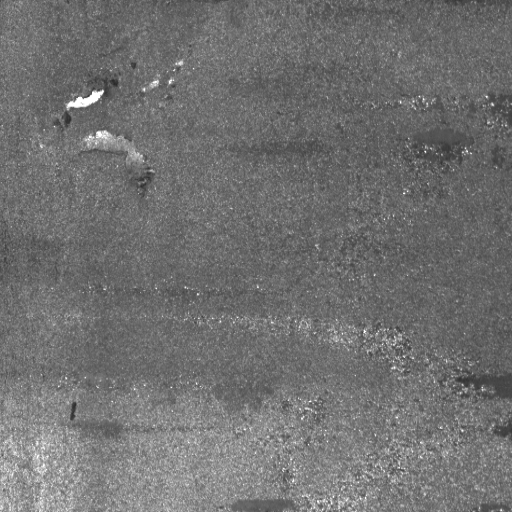aokeng: (80, 127, 162, 195), (59, 75, 111, 115)
